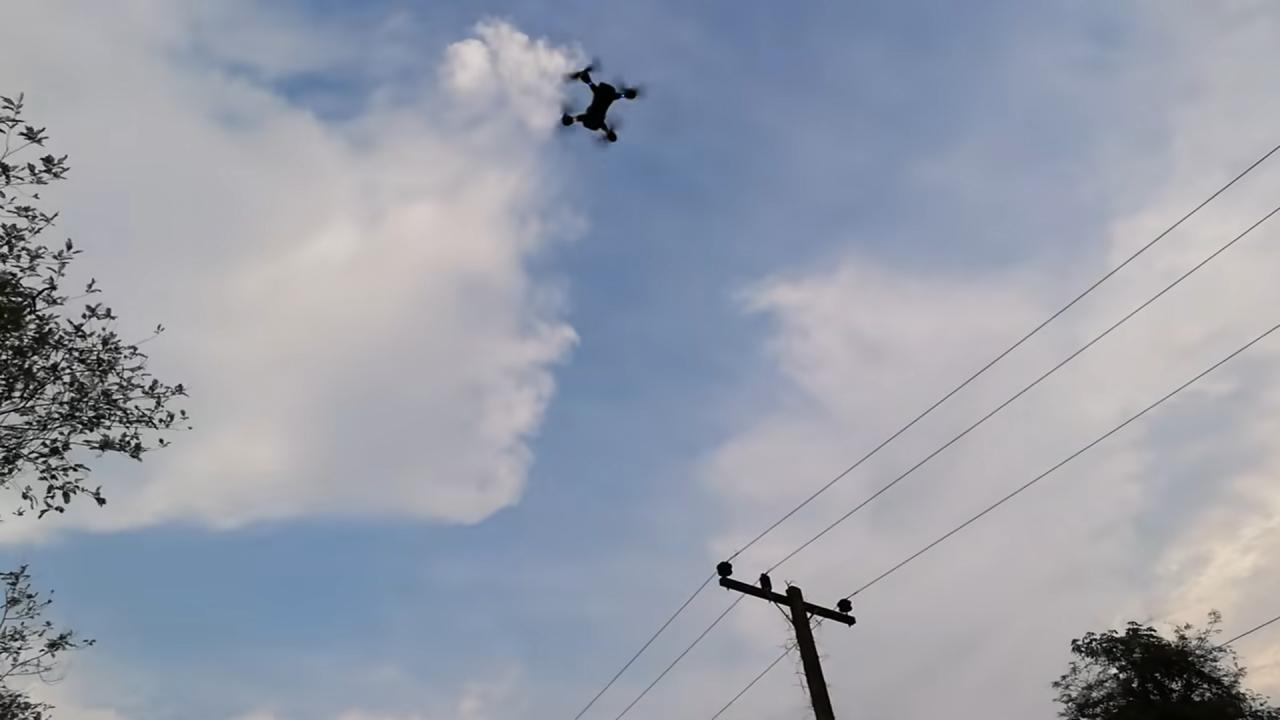Drone: (546, 46, 656, 158)
